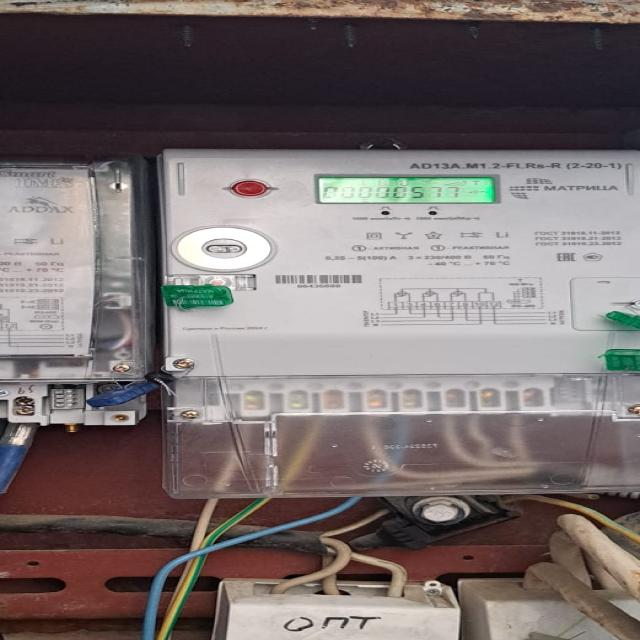Display: (313, 172, 502, 205)
meter_matrica: (163, 146, 640, 388)
meter_number: (268, 271, 371, 290)
